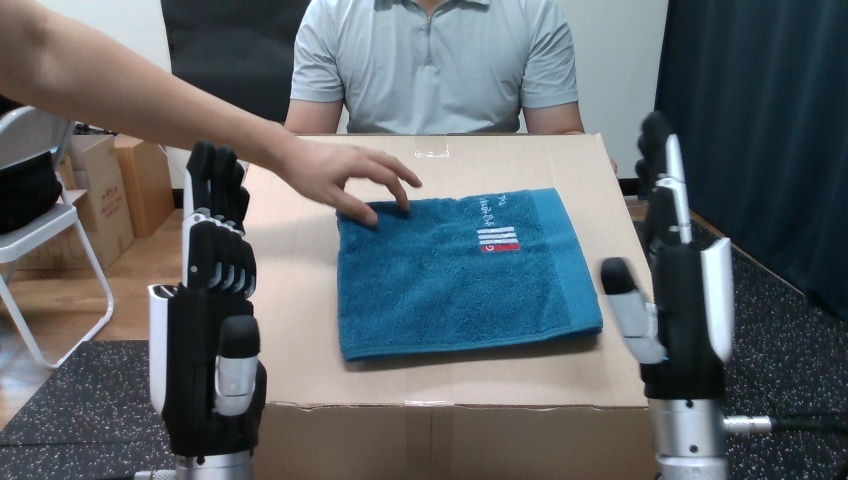left robot hand: (600, 112, 847, 479), (149, 140, 265, 479), (278, 139, 421, 227)
